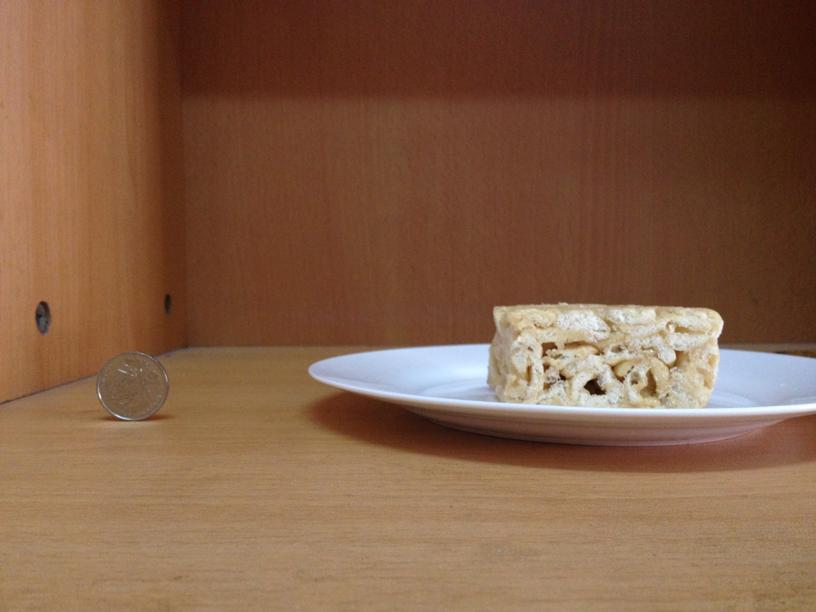coin: (91, 349, 168, 423)
sachima: (483, 300, 722, 411)
